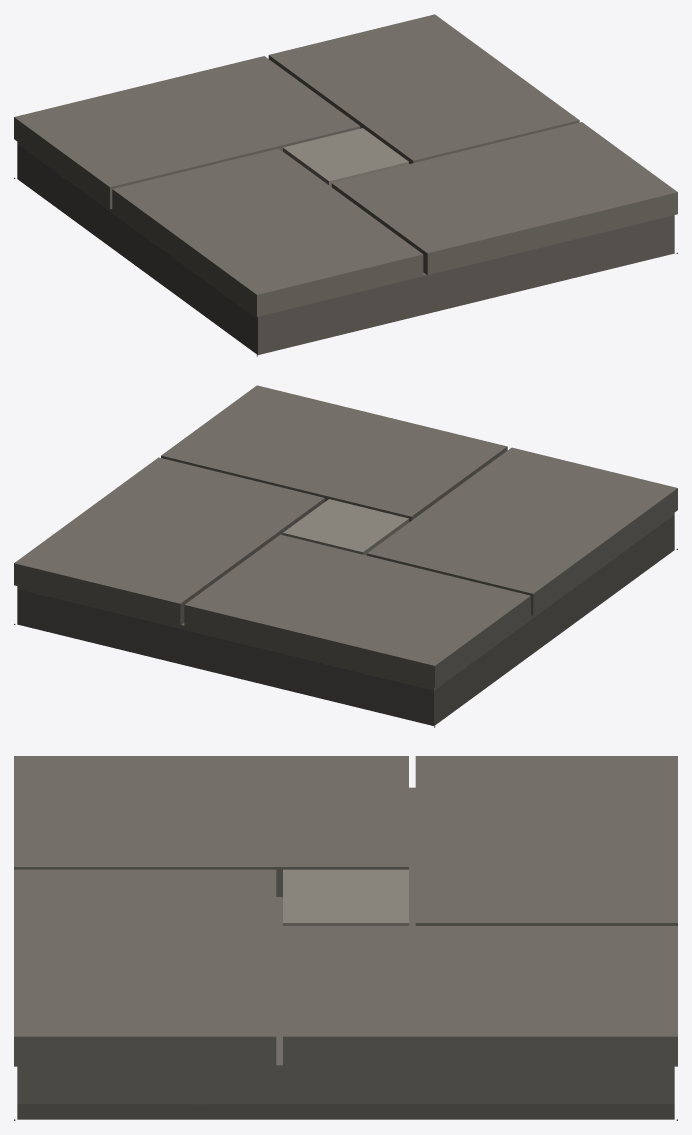
File: floor_stone_cross.glb
The picture shows the model from 3 angles, top to bottom: view 1: azimuth 30°, elevation 25°; view 2: azimuth 150°, elevation 25°; view 3: azimuth 270°, elevation 25°; orthographic projection. The views are drawn at different scales.
Size of the model in its own units: 1 by 0.14 by 1.
1 material, 1 textured.
